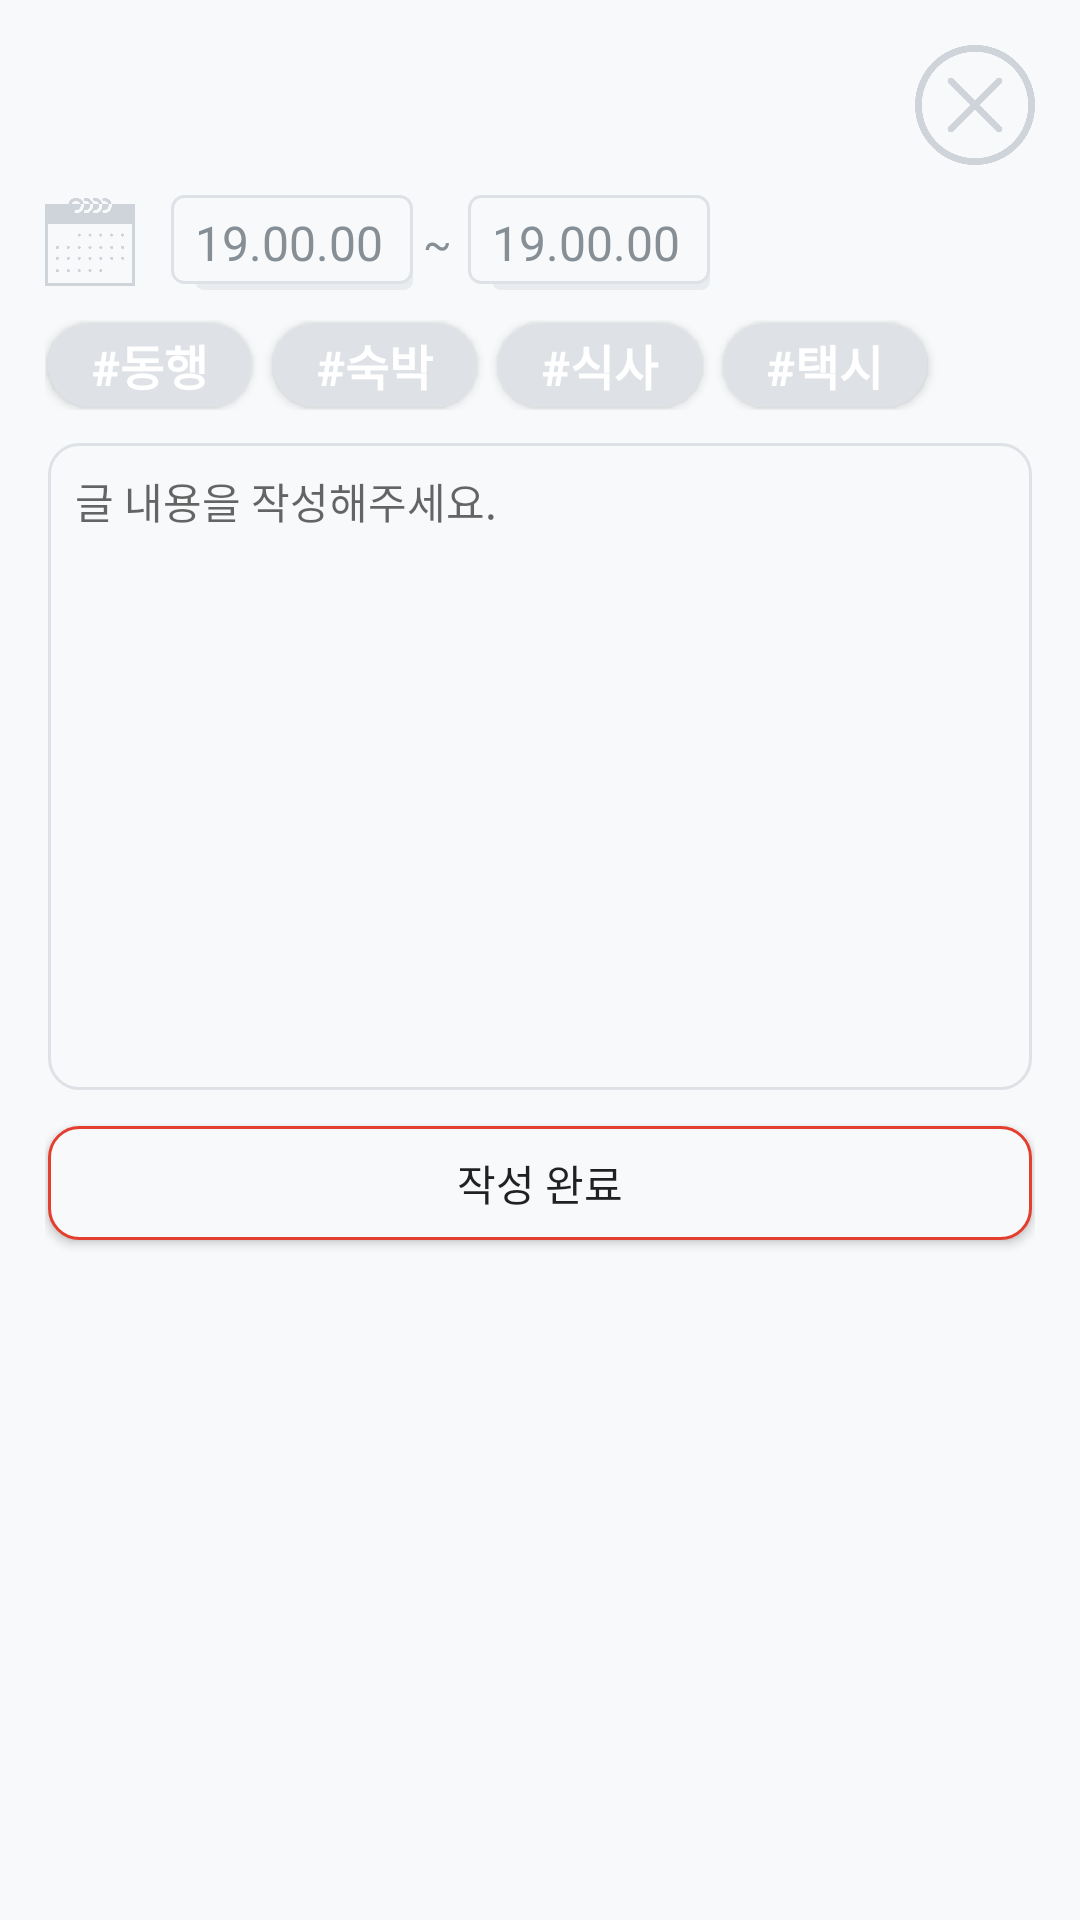

Icon bounding boxes for this 1080w x 1920h phone screenshot, format Rect(x1, y1, x2, y2):
calendar: Rect(45, 198, 135, 286)
close: Rect(915, 45, 1035, 165)
